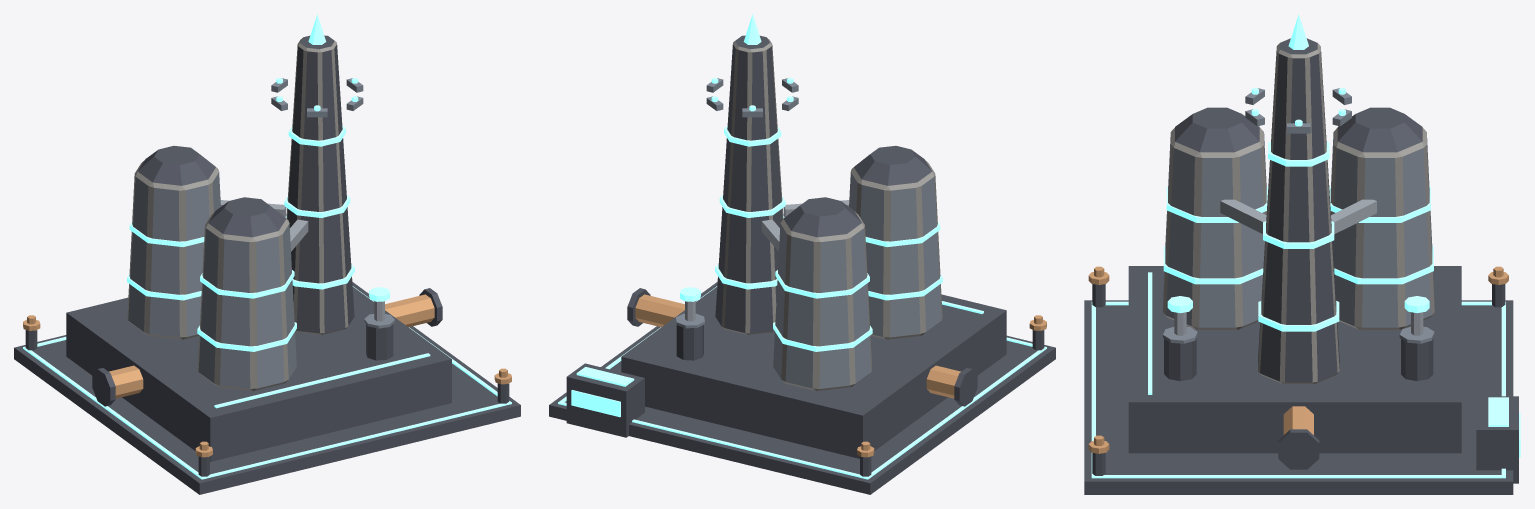
The model's file is refinador_sem_textura.glb.
The picture shows the model from 3 angles, left to right: view 1: azimuth 30°, elevation 25°; view 2: azimuth 150°, elevation 25°; view 3: azimuth 270°, elevation 25°; orthographic projection. The views are drawn at different scales.
Parts seen in each view (by area): view 1: refinador_corpo, refinador_antena; view 2: refinador_corpo, refinador_antena; view 3: refinador_corpo, refinador_antena, refinador_pistao0, refinador_pistao1.
Part boxes in pixels (bbox=[...]): refinador_corpo: bbox=[14, 14, 520, 494]; refinador_antena: bbox=[271, 78, 363, 117]; refinador_corpo: bbox=[549, 14, 1055, 494]; refinador_antena: bbox=[706, 78, 798, 117]; refinador_corpo: bbox=[1084, 14, 1520, 494]; refinador_antena: bbox=[1245, 88, 1351, 133]; refinador_pistao0: bbox=[1167, 296, 1192, 335]; refinador_pistao1: bbox=[1404, 296, 1429, 335].
Bounding box in the file's own units: 3 × 3.12 × 2.95.
